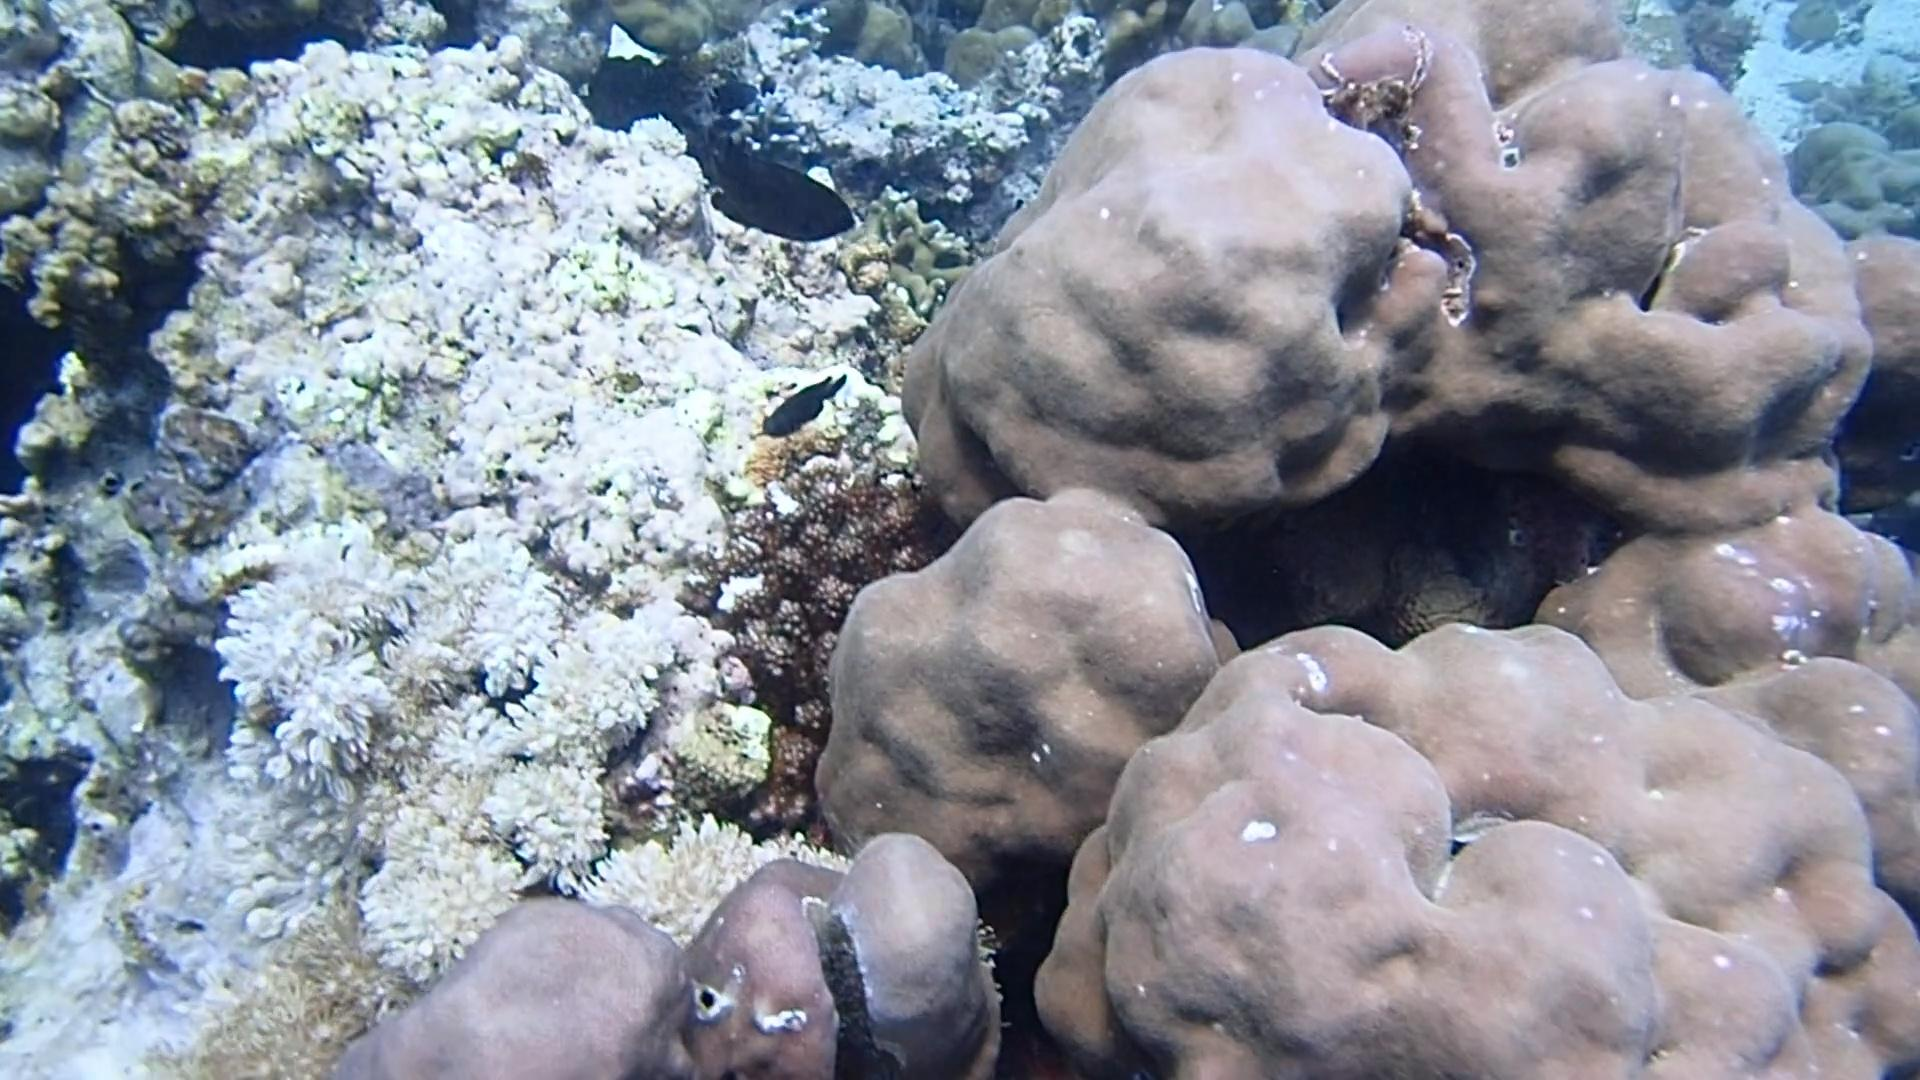Dark Fish: (703, 131, 858, 249), (756, 363, 849, 446), (704, 71, 764, 123), (843, 153, 881, 182)
